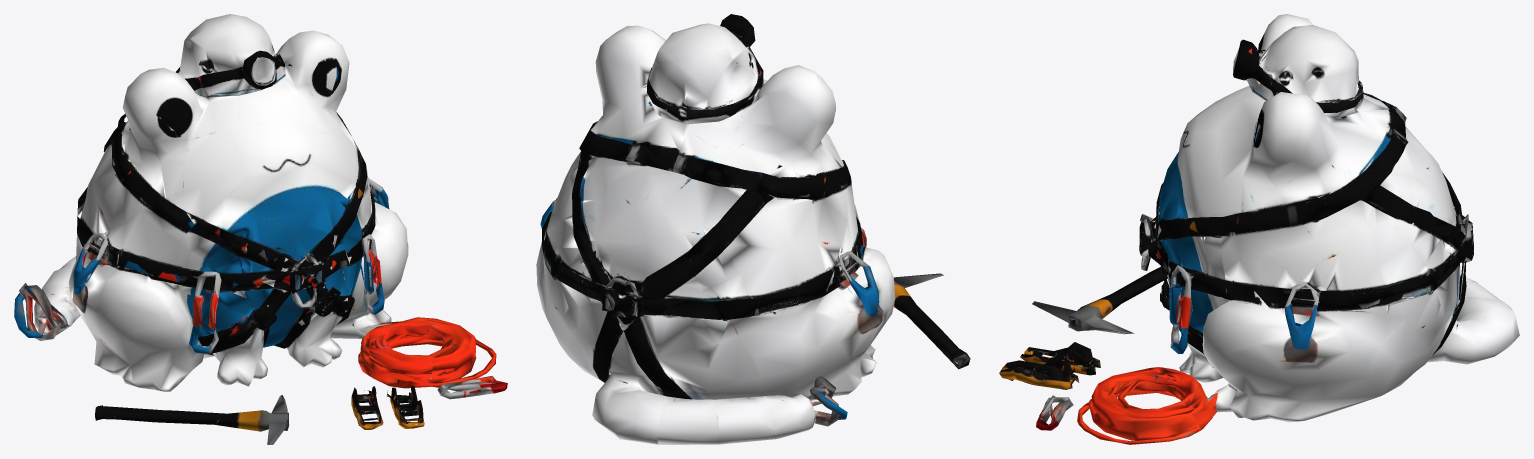
File: alpiniste.glb
3 views of the same model, side by side, from view 1: azimuth 30°, elevation 25°; view 2: azimuth 150°, elevation 25°; view 3: azimuth 270°, elevation 25° (orthographic). The views are drawn at different scales.
Parts seen in each view (by area): view 1: mesh_node; view 2: mesh_node; view 3: mesh_node.
Part boxes in pixels (<box>): mesh_node: <box>14,14,507,444</box>; mesh_node: <box>536,14,970,444</box>; mesh_node: <box>999,14,1519,444</box>.
Bounding box in the file's own units: 1.63 × 1.34 × 1.92.
Materials: 1 (1 with a texture image).
